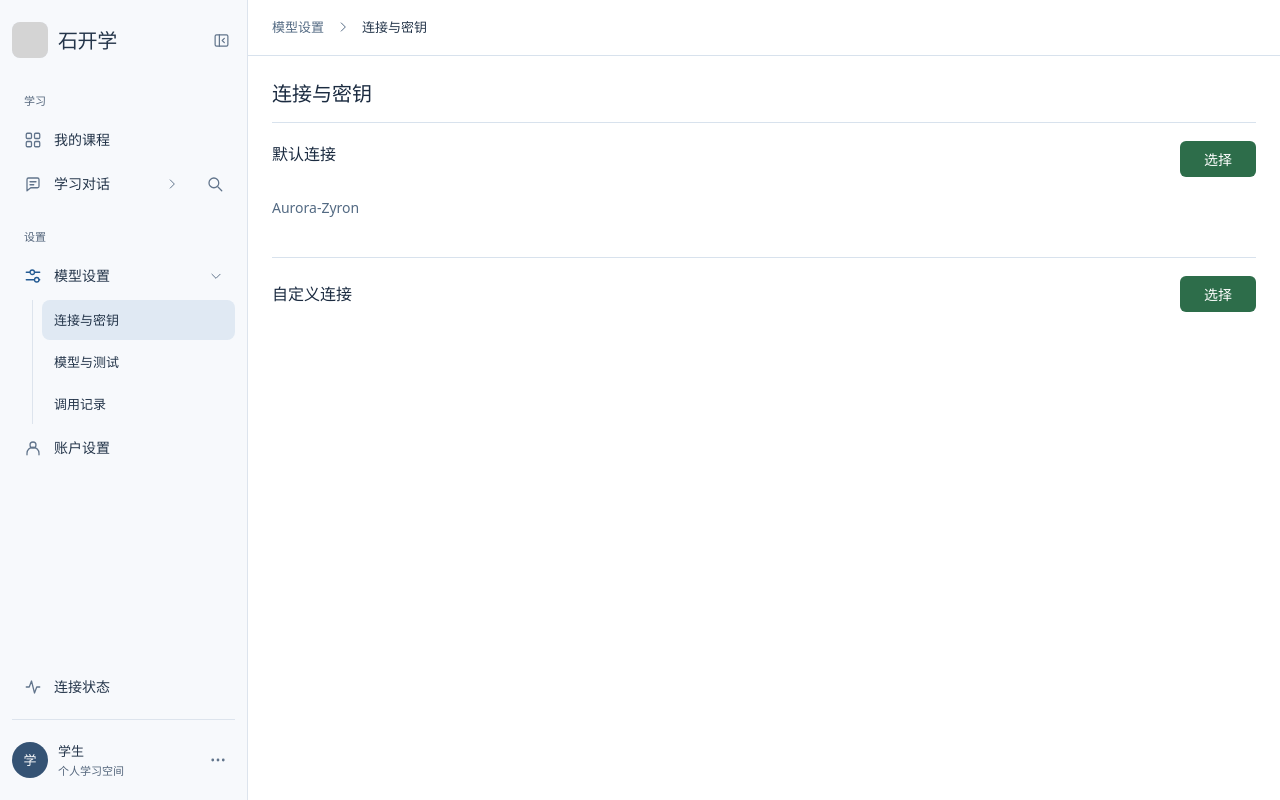
Scenario: desktop course workspace › keeps the connection page mounted until an in-flight selection settles
Click the button with aria-label "选择自定义连接": [1218, 294] box 1180,276 -> 1256,312
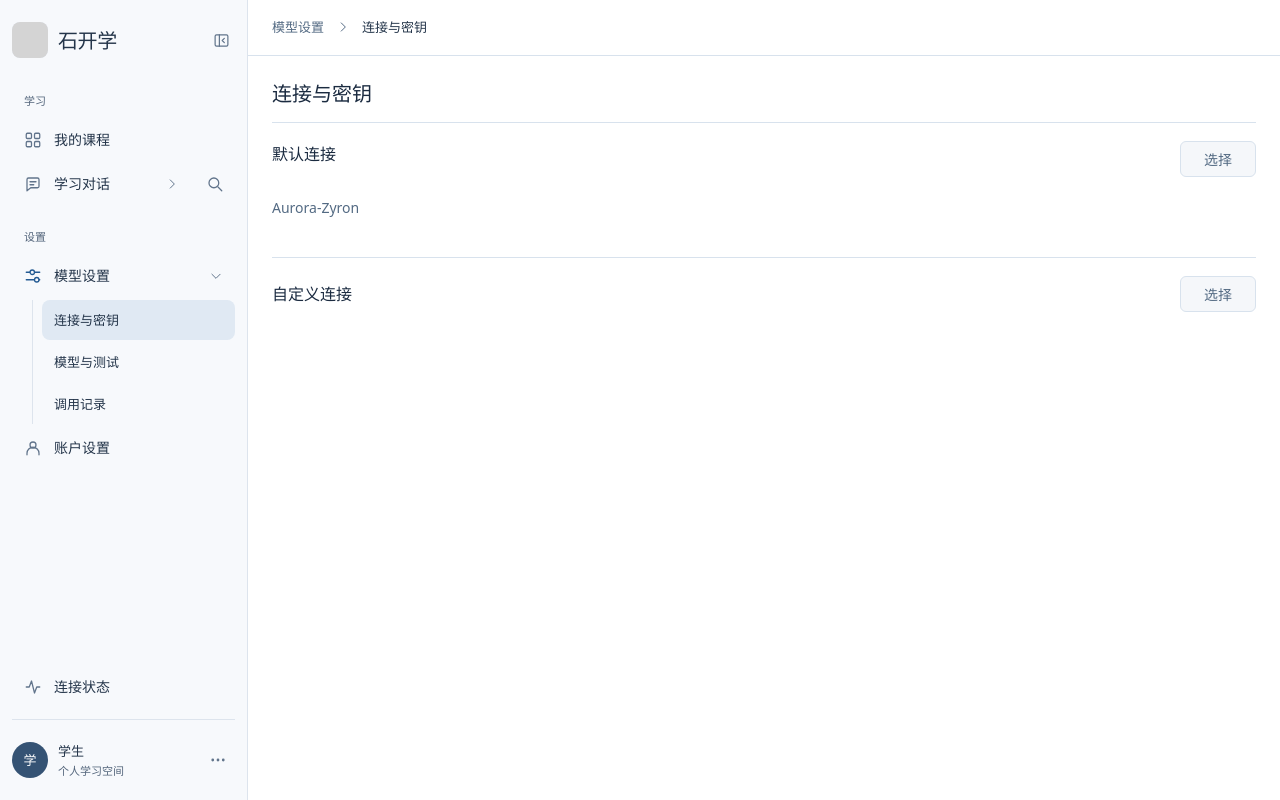
Click the link "模型与测试": [86, 362] box 54,353 -> 119,371
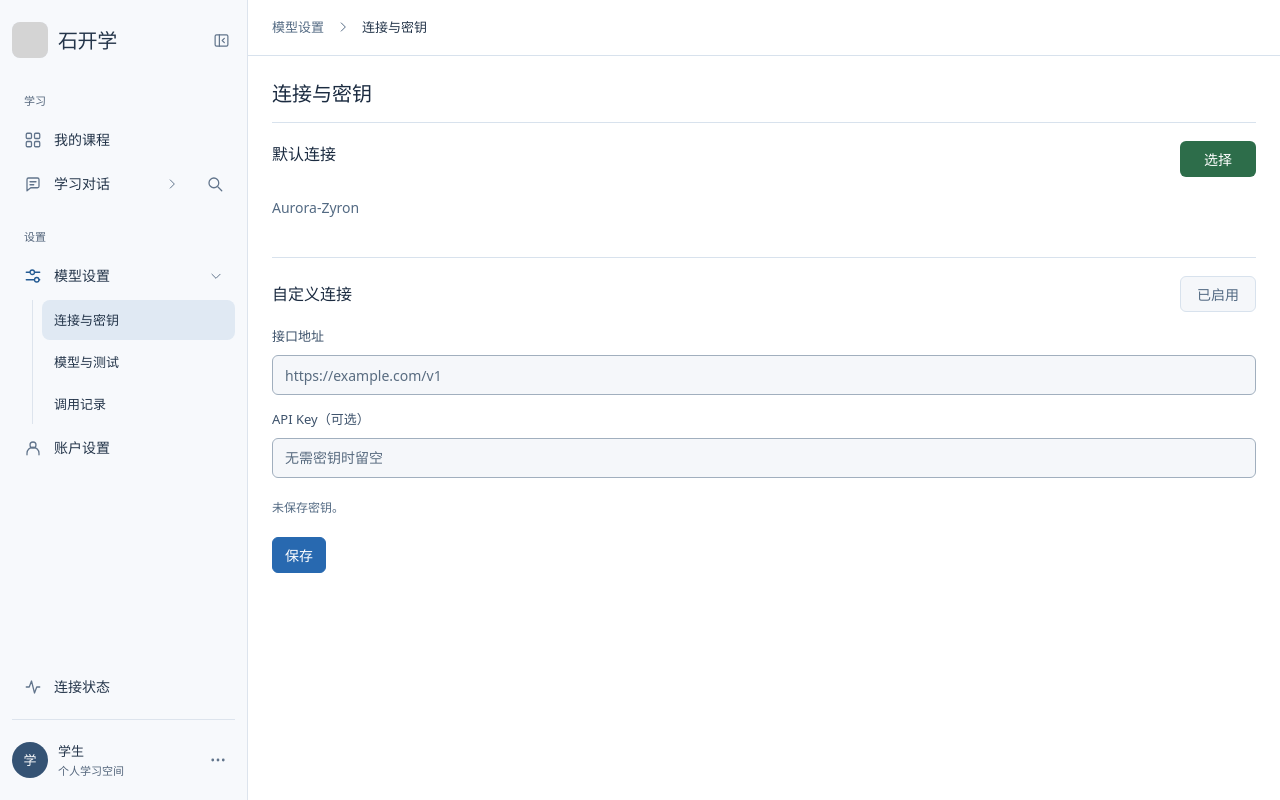
Expected: the button with aria-label "自定义连接已启用" is shown, 1180,276 -> 1256,312
Click the link "模型与测试": [86, 362] box 54,353 -> 119,371
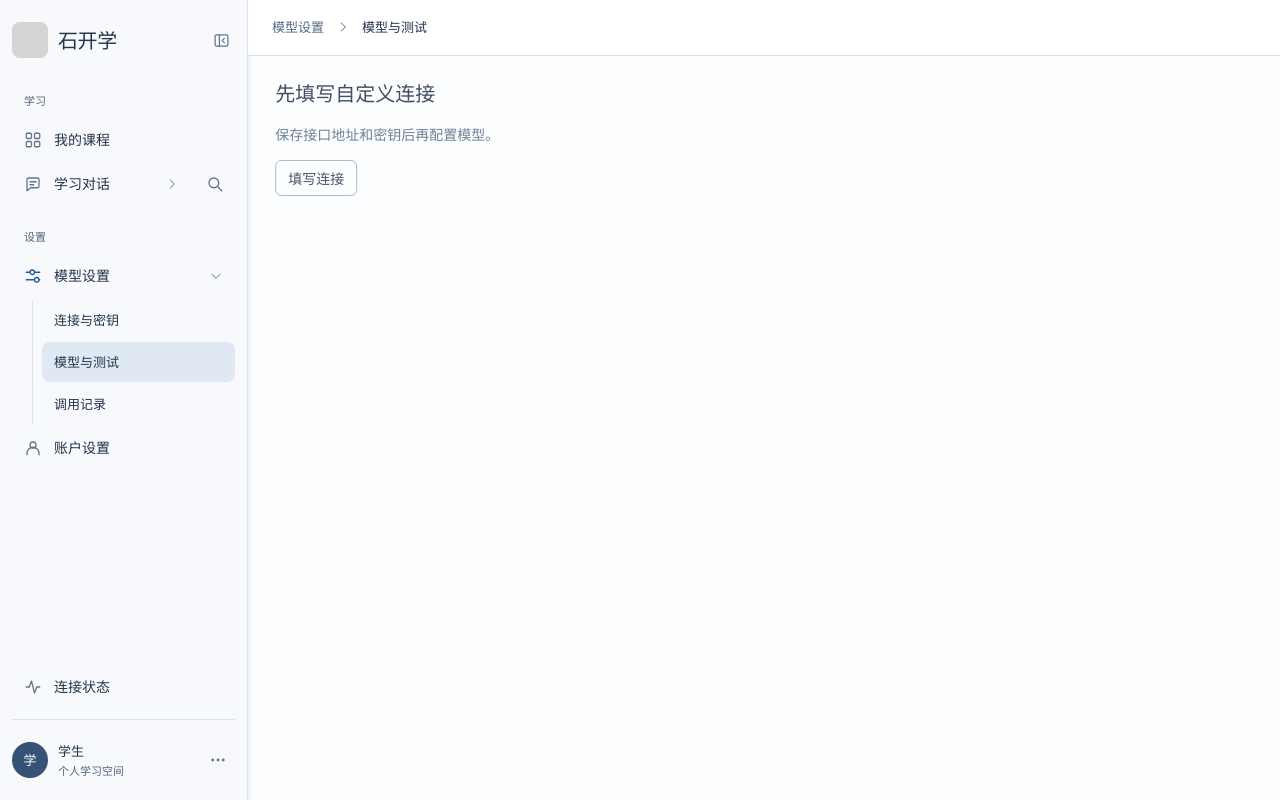
Expected: the heading "先填写自定义连接" is shown, 273,80 -> 433,107
